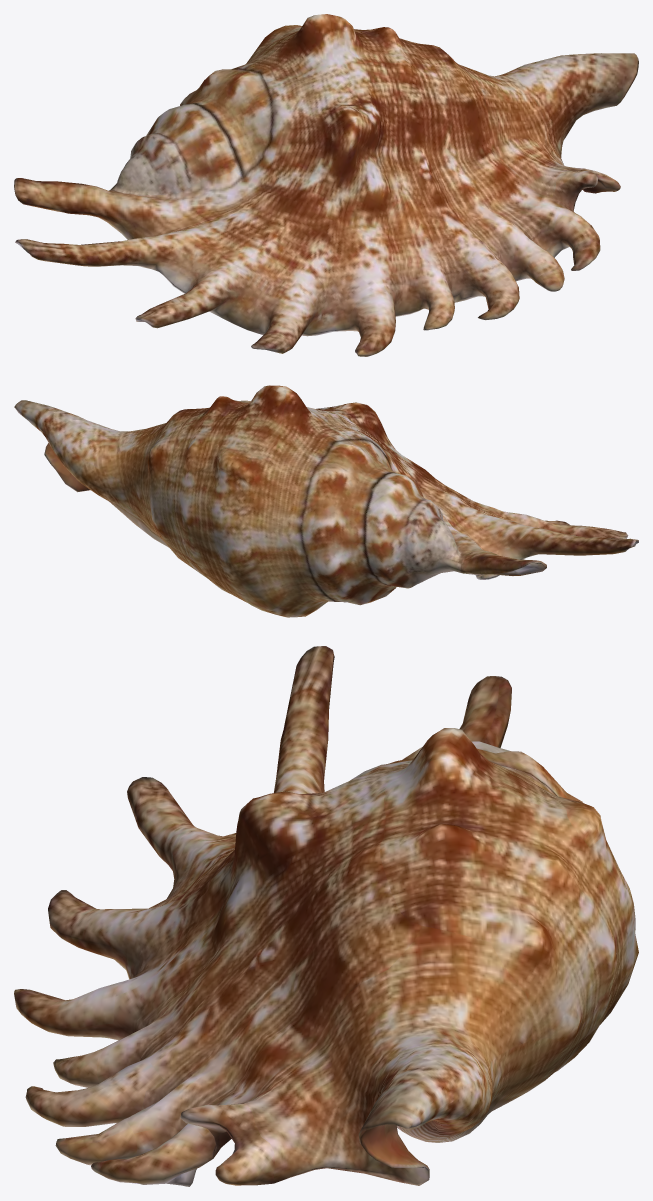
File: lambis_shell.glb
The picture shows the model from 3 angles, top to bottom: view 1: azimuth 30°, elevation 25°; view 2: azimuth 150°, elevation 25°; view 3: azimuth 270°, elevation 25°; orthographic projection. The views are drawn at different scales.
Visible parts, largest first — view 1: lambis_shell; view 2: lambis_shell; view 3: lambis_shell.
Boxes of the visible parts, box(x1,y1,x2,y2) form: lambis_shell: box(14, 14, 638, 356); lambis_shell: box(14, 385, 638, 617); lambis_shell: box(14, 646, 638, 1186).
Bounding box in the file's own units: 0.1395 × 0.0465 × 0.0745.
1 material, 1 textured.
